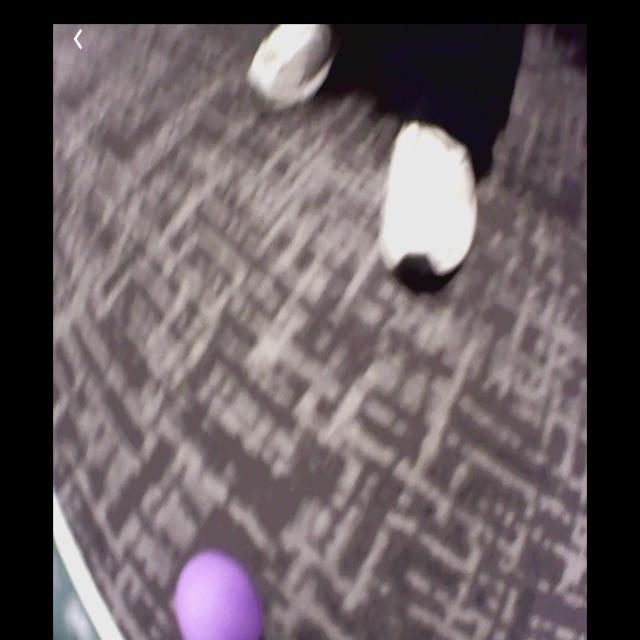ball: (177, 549, 263, 640)
